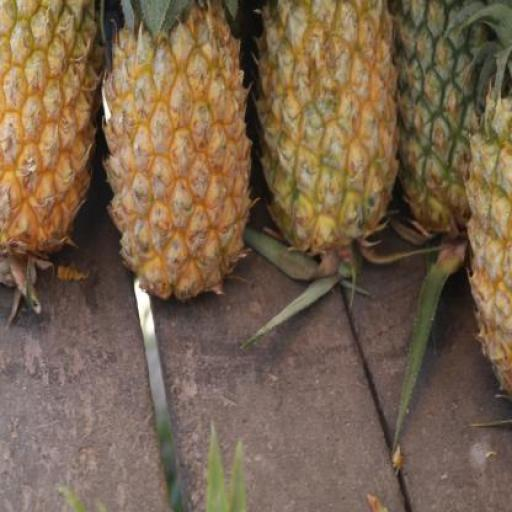------------------------------: (255, 0, 395, 247)
Pineapple - v8 v1: (100, 2, 250, 303), (0, 1, 98, 265)
